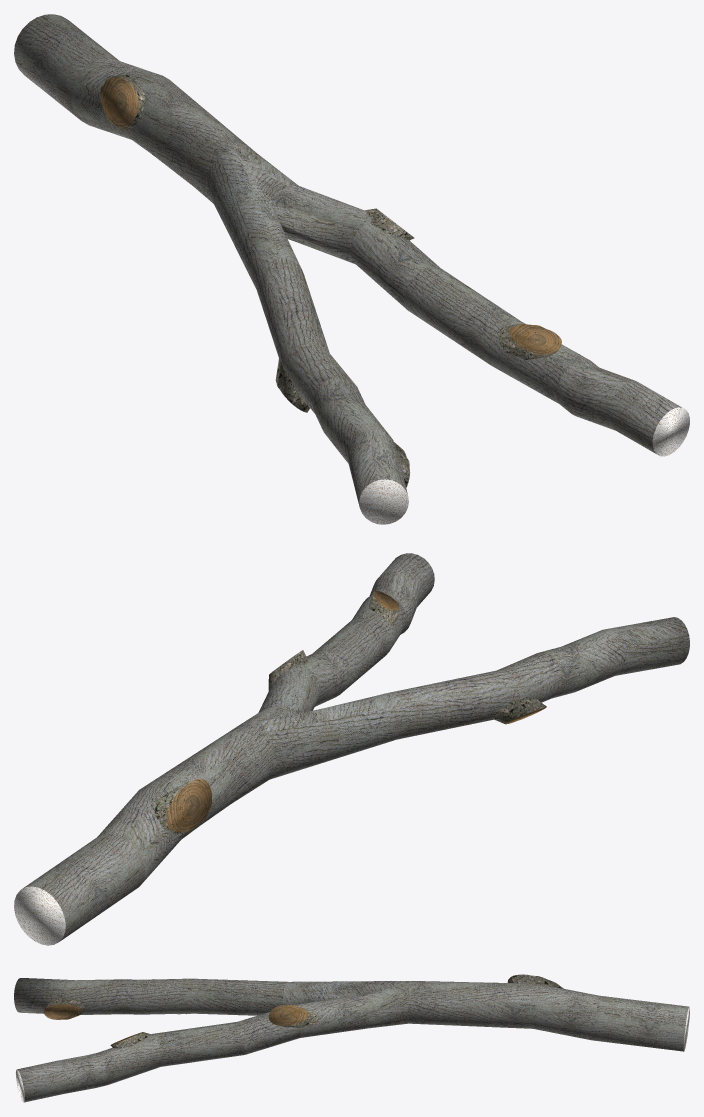
The picture shows the model from 3 angles, top to bottom: view 1: azimuth 30°, elevation 25°; view 2: azimuth 150°, elevation 25°; view 3: azimuth 270°, elevation 25°; orthographic projection. The views are drawn at different scales.
Parts seen in each view (by area): view 1: SketchUp (×3), group_0, group_4; view 2: SketchUp (×2), group_0 (×2), group_3; view 3: SketchUp, group_1 (×2), group_2 (×2), group_0, group_4.
Boxes of the visible parts, bbox=[...] form: SketchUp (×3): bbox=[14, 14, 689, 524]; group_0: bbox=[99, 77, 138, 128]; group_4: bbox=[508, 324, 561, 354]; SketchUp (×2): bbox=[14, 553, 689, 945]; group_0 (×2): bbox=[154, 778, 212, 835]; group_3: bbox=[492, 698, 546, 723]; SketchUp: bbox=[14, 978, 688, 1102]; group_1 (×2): bbox=[268, 1005, 320, 1027]; group_2 (×2): bbox=[44, 996, 84, 1019]; group_0: bbox=[507, 974, 563, 988]; group_4: bbox=[111, 1032, 150, 1048].
Bounding box in the file's own units: 121 × 332 × 43.27.
5 materials, 3 textured.
